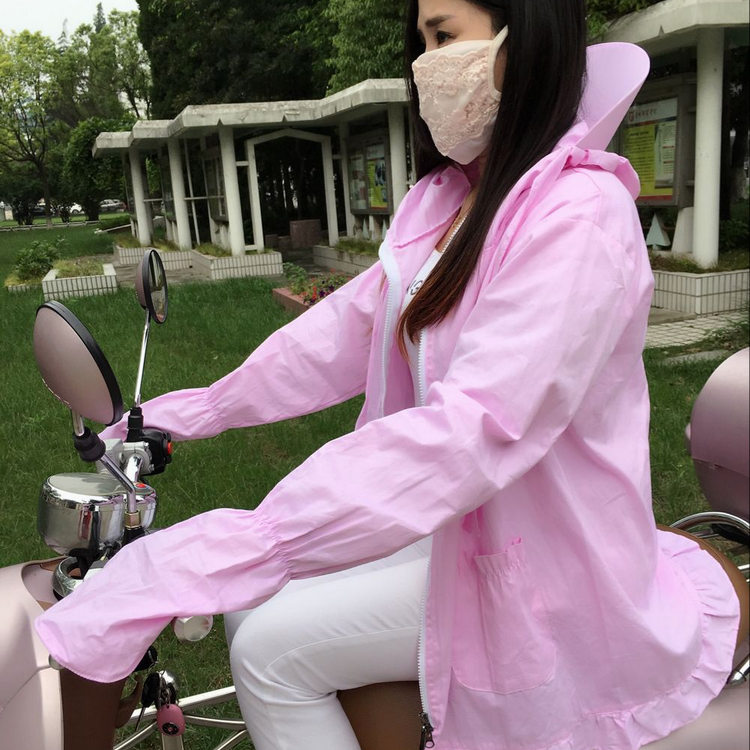face_mask: (411, 1, 530, 149)
